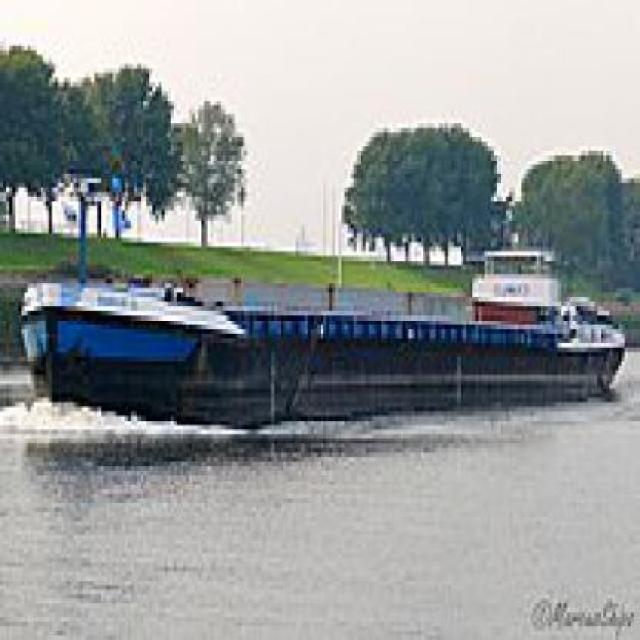container: (13, 234, 632, 440)
